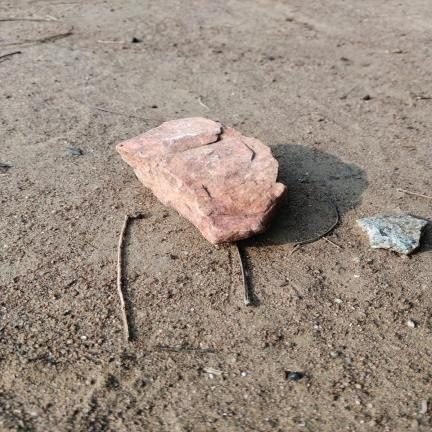Rocks: (117, 118, 287, 244), (357, 213, 427, 254), (286, 372, 302, 380), (66, 148, 82, 155)
